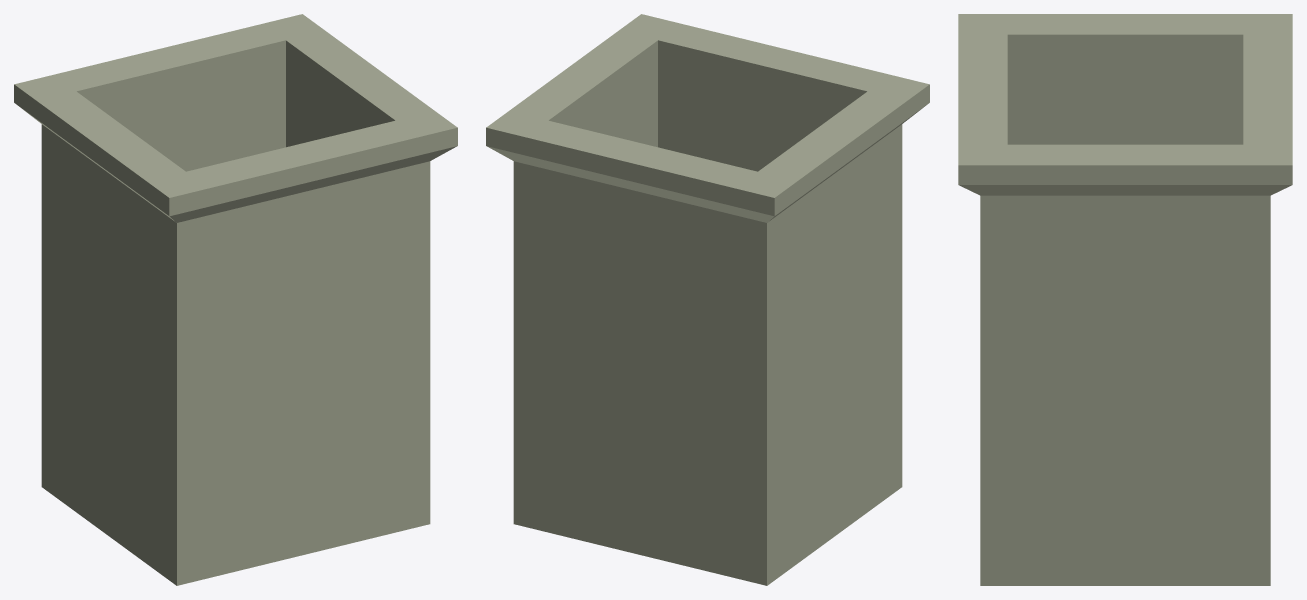
The model's file is vidange.fbx.
3 renders of one model, left to right at view 1: azimuth 30°, elevation 25°; view 2: azimuth 150°, elevation 25°; view 3: azimuth 270°, elevation 25°, orthographic. The views are drawn at different scales.
Visible parts, largest first — view 1: pouelle; view 2: pouelle; view 3: pouelle.
Boxes of the visible parts, x1,y1,x2,y2 form: pouelle: (14, 14, 457, 585); pouelle: (486, 14, 929, 585); pouelle: (958, 14, 1292, 585).
Bounding box in the file's own units: 6.58 × 8.71 × 6.13.
